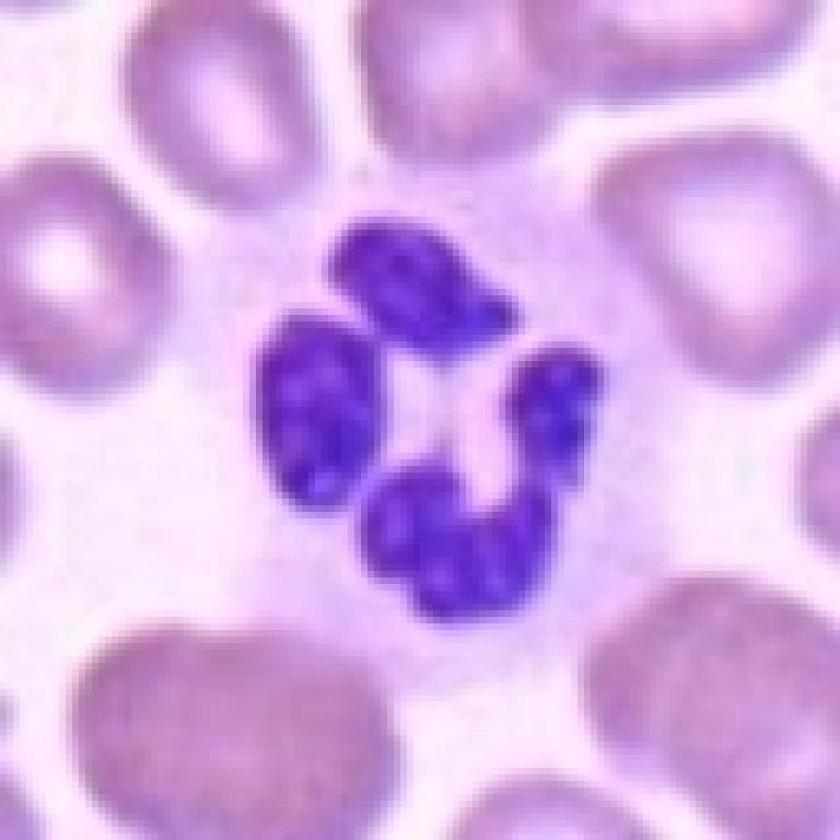neutrophil: (130, 152, 737, 695)
